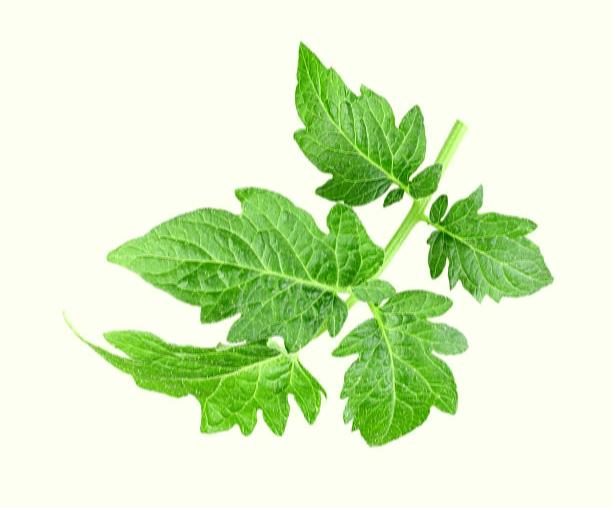Tomato leaf: (104, 166, 385, 352), (78, 302, 346, 470), (278, 31, 442, 231), (325, 267, 462, 473), (423, 176, 564, 306)
